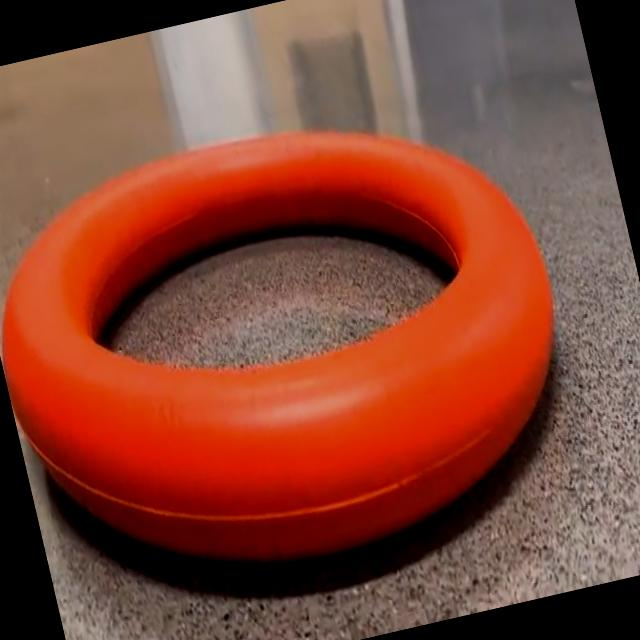note: (3, 131, 553, 560)
